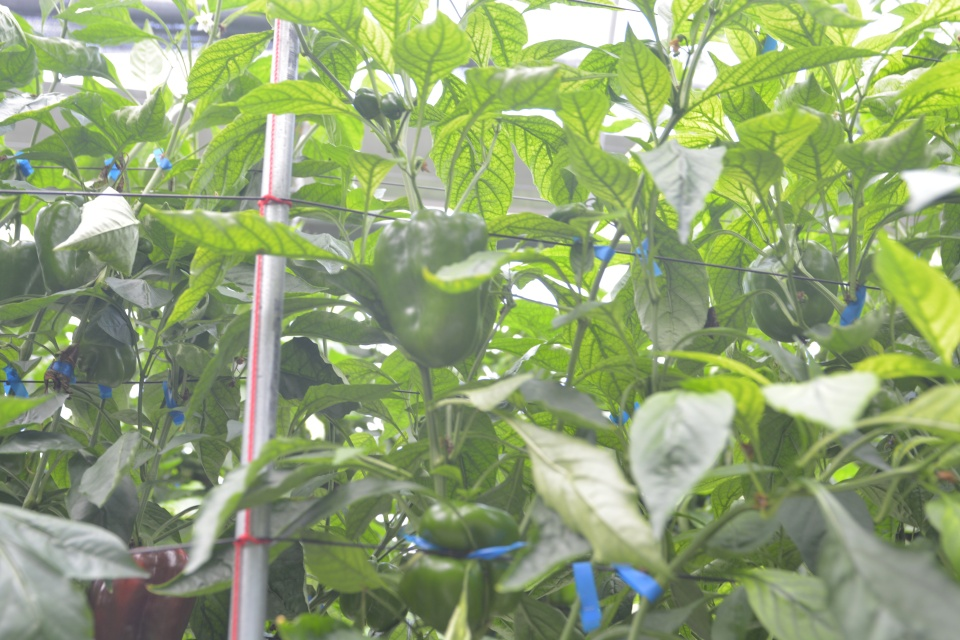fruit: (371, 209, 489, 370), (400, 497, 521, 640), (86, 544, 196, 640), (748, 238, 840, 342), (32, 193, 89, 292), (340, 560, 408, 632), (71, 322, 137, 388), (0, 238, 46, 327), (353, 87, 382, 121), (380, 91, 406, 121)
